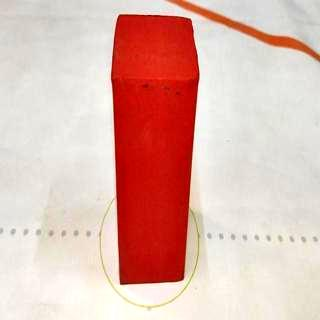redbox: (111, 13, 201, 286)
